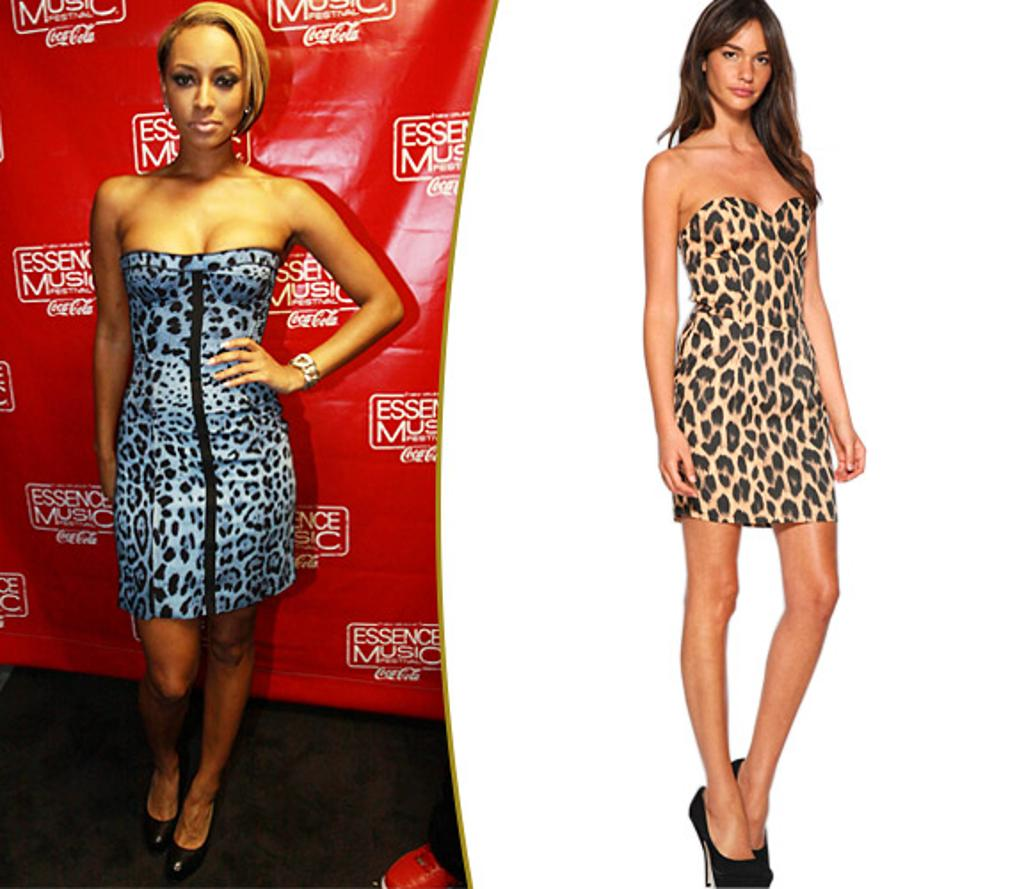face: (166, 22, 242, 146), (706, 8, 772, 114)
